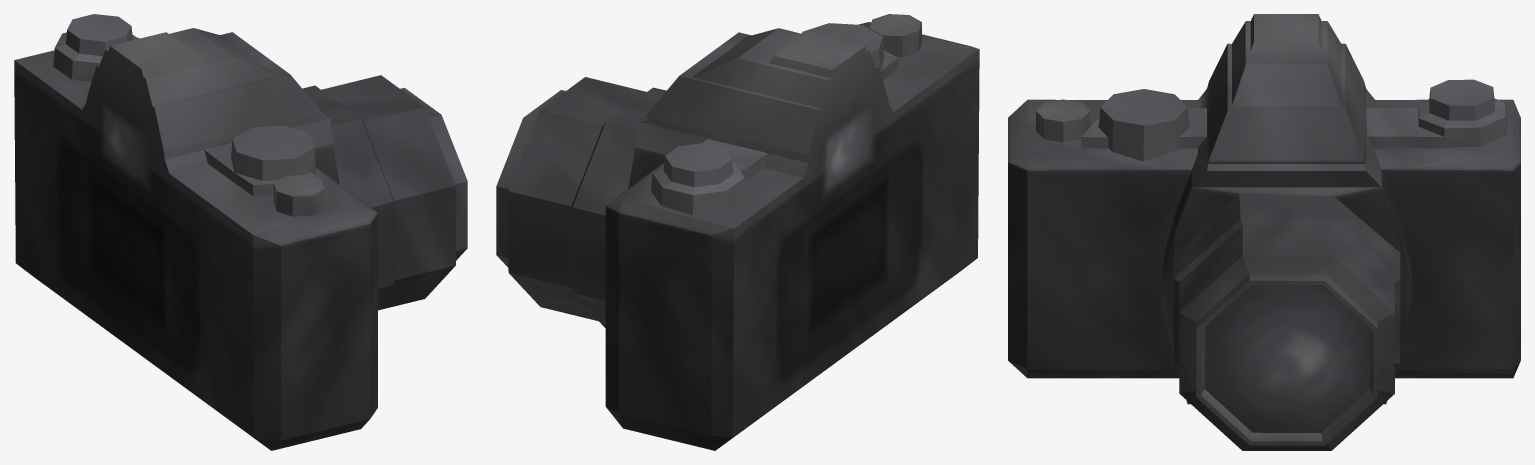
Rendered from Camera.fbx.
3 renders of one model, left to right at view 1: azimuth 30°, elevation 25°; view 2: azimuth 150°, elevation 25°; view 3: azimuth 270°, elevation 25°, orthographic. The views are drawn at different scales.
Parts seen in each view (by area): view 1: M_Camera; view 2: M_Camera; view 3: M_Camera.
Part boxes in pixels (x1,y1,x2,y2): M_Camera: [14, 14, 467, 450]; M_Camera: [496, 14, 979, 450]; M_Camera: [1008, 14, 1520, 450].
Size of the model in its own units: 2.05 by 1.99 by 2.97.
